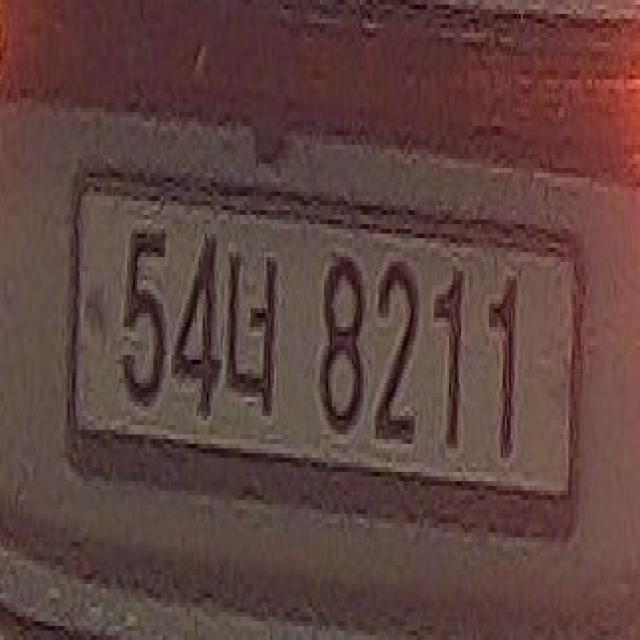1: (481, 262, 529, 472), (427, 252, 469, 458)
2: (374, 252, 421, 458)
4: (171, 225, 223, 434)
5: (117, 206, 167, 407)
8: (316, 238, 370, 439)
license_plate: (59, 168, 576, 570)
neo: (223, 238, 296, 416)
